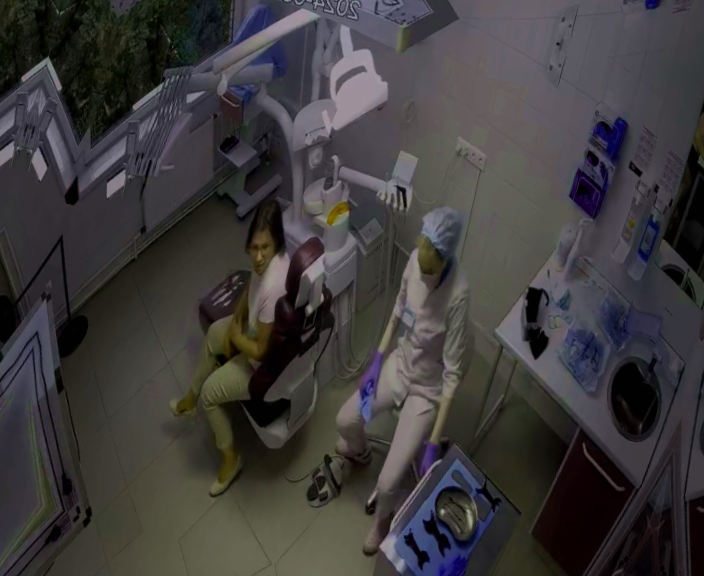Empty: (149, 181, 402, 525)
